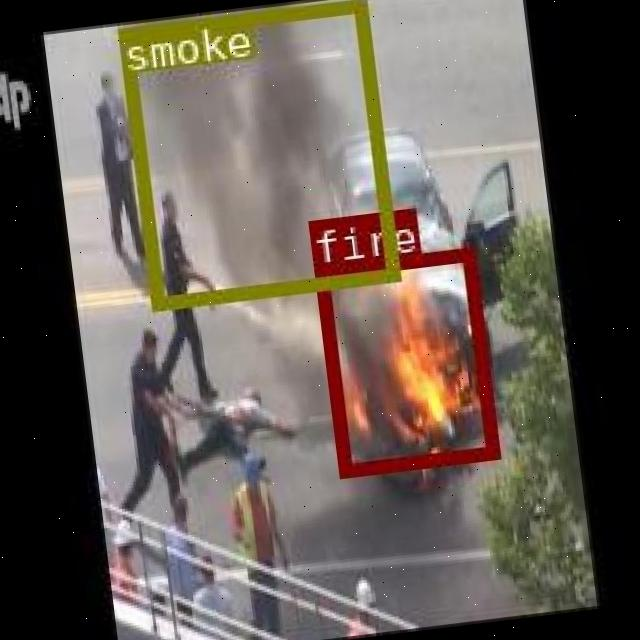fire: (313, 246, 496, 476)
smoke: (114, 0, 395, 307)
